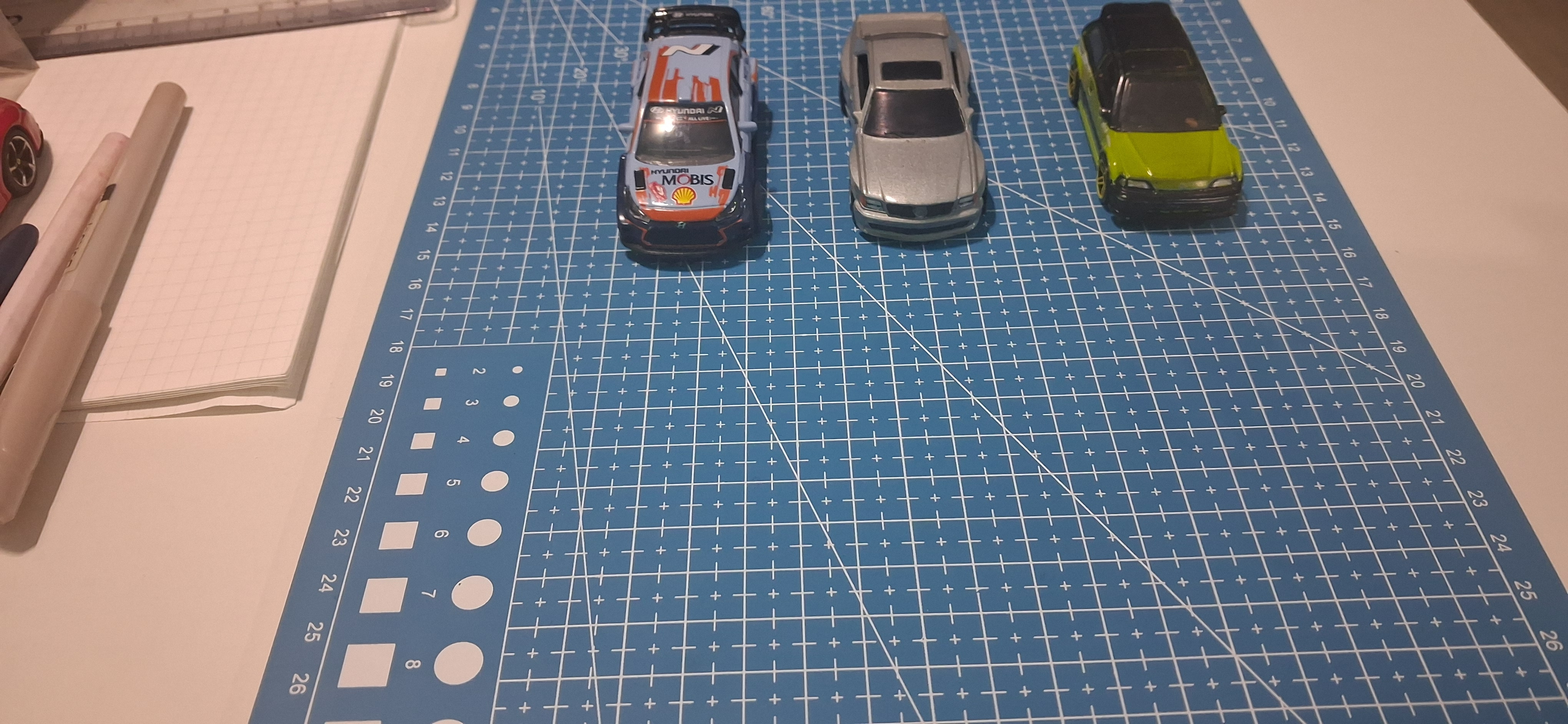Honda_Civic: (1051, 2, 1279, 248)
Hyundai_I20_WRC: (590, 2, 785, 294)
Mercedes_Benz_560_SEC_AMG: (810, 7, 1021, 276)
